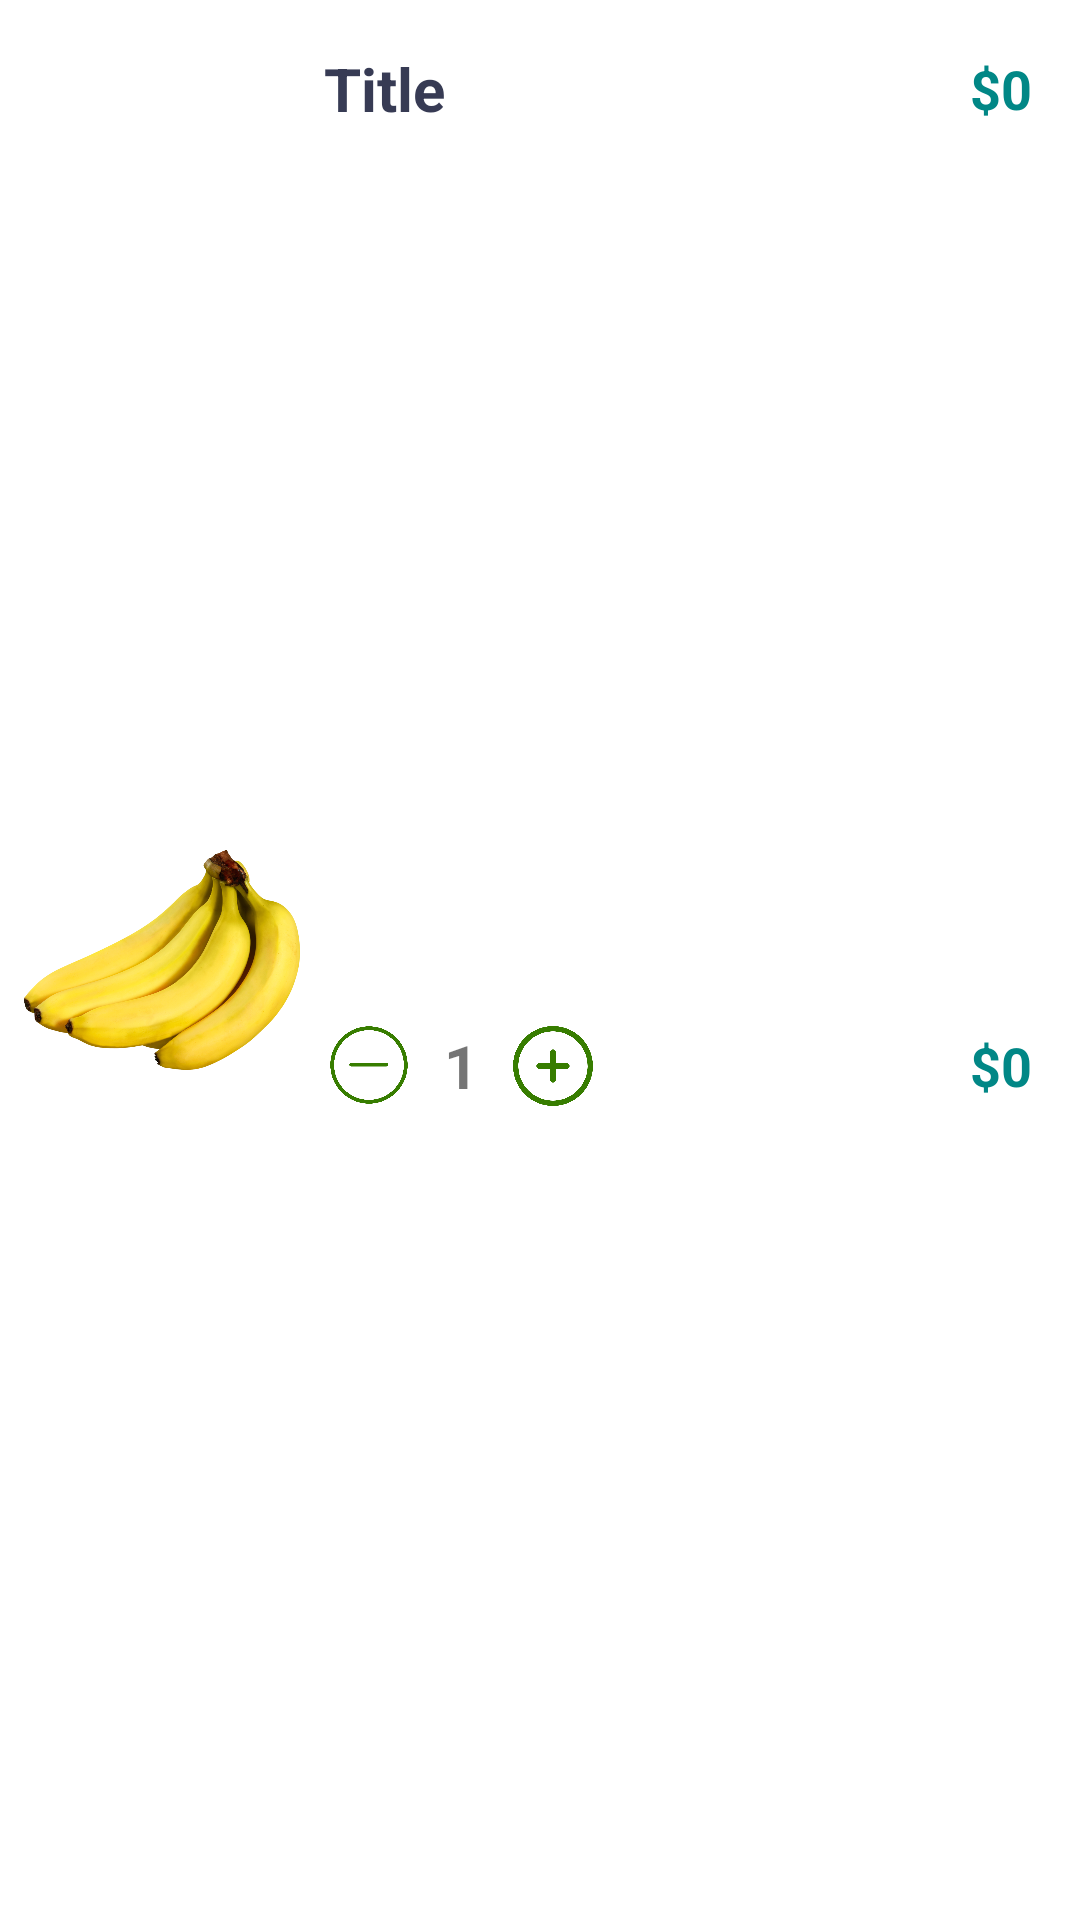

Icons on this 1080w x 1920h Android screen, each with its box as (left=x1, top=y1, right=x2, bottom=y2):
banana: (left=24, top=850, right=300, bottom=1070)
minus: (left=330, top=1026, right=408, bottom=1104)
plus: (left=513, top=1026, right=593, bottom=1106)
